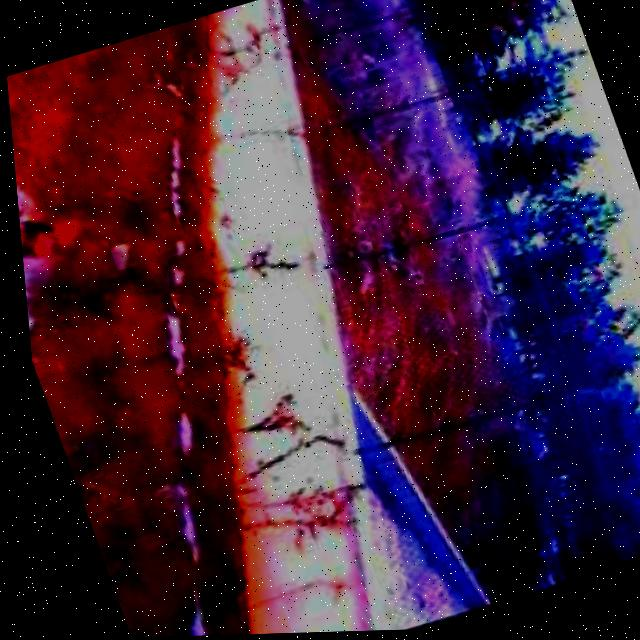Fire: (12, 168, 87, 278)
